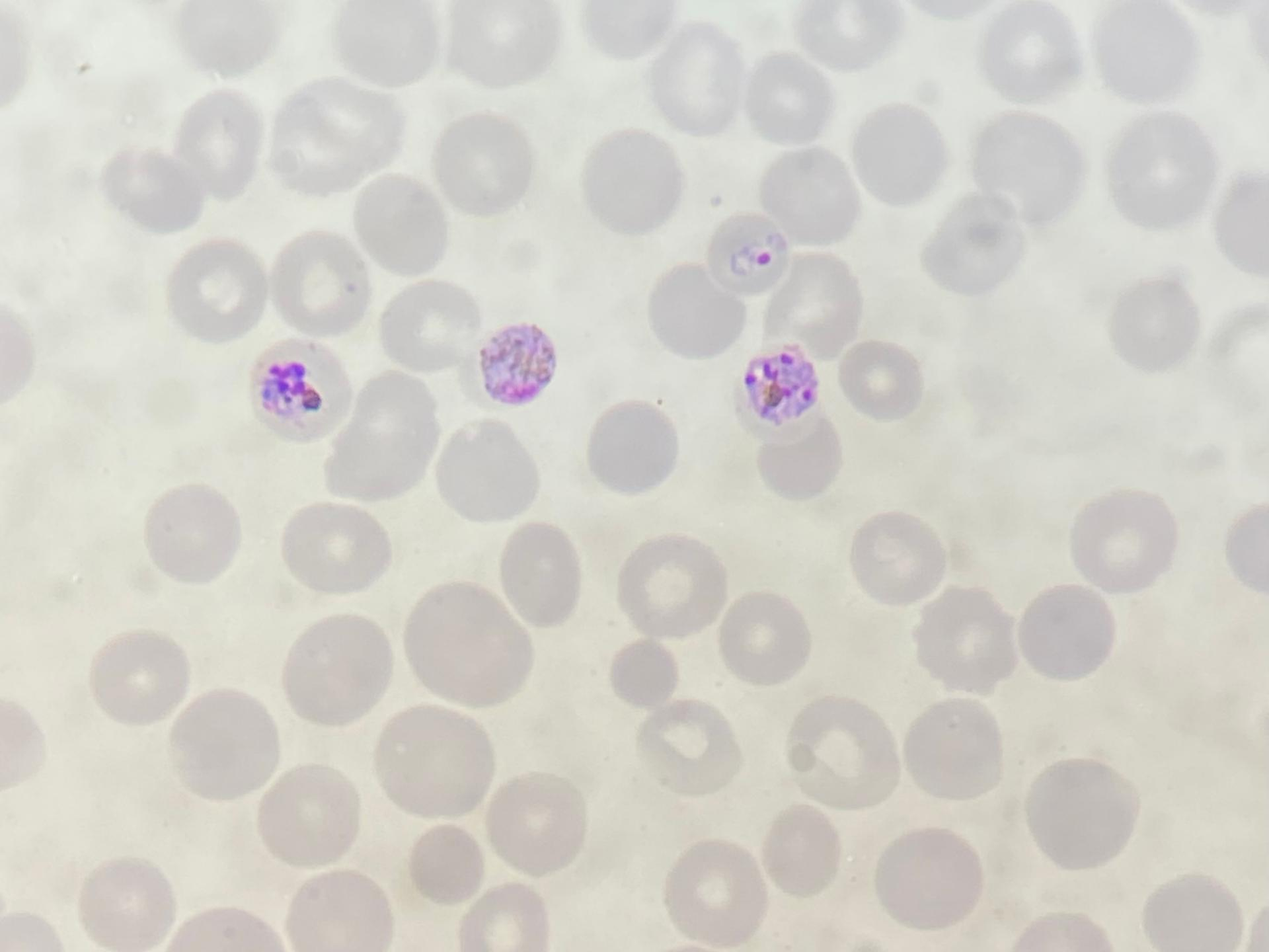Infected: (917, 508, 1020, 612), (442, 506, 538, 609), (478, 655, 562, 736), (712, 545, 792, 626)
Uninfected: (734, 243, 863, 368), (867, 760, 997, 875), (200, 504, 332, 614), (827, 453, 942, 576), (128, 80, 245, 195), (369, 141, 485, 255), (773, 134, 891, 244), (52, 721, 163, 837), (182, 727, 294, 838), (994, 146, 1096, 261), (250, 256, 356, 365), (88, 359, 198, 462), (875, 228, 986, 330), (540, 314, 651, 416), (284, 21, 394, 123), (728, 430, 834, 535), (907, 84, 1013, 188), (69, 846, 176, 949), (241, 654, 346, 758), (895, 615, 1000, 719), (501, 6, 607, 109), (264, 150, 368, 253), (184, 847, 289, 949), (525, 152, 633, 251), (735, 736, 837, 839), (680, 77, 783, 178), (522, 815, 617, 924), (584, 717, 684, 820), (319, 744, 418, 848), (881, 349, 986, 445), (151, 268, 251, 368), (1007, 754, 1100, 859), (707, 864, 819, 951), (818, 674, 914, 775), (408, 706, 507, 803), (1001, 614, 1100, 710), (429, 803, 525, 902), (406, 594, 501, 694), (1031, 367, 1128, 464), (521, 592, 619, 688), (1082, 221, 1176, 320), (67, 578, 161, 677), (321, 346, 419, 440), (792, 578, 892, 670), (1064, 716, 1165, 807), (588, 456, 685, 550), (457, 265, 553, 359), (826, 864, 929, 951), (688, 324, 773, 427), (1093, 1, 1188, 91), (877, 2, 981, 79), (367, 880, 473, 952), (25, 1, 124, 77), (425, 450, 514, 534), (344, 530, 434, 613), (427, 54, 509, 143), (988, 875, 1089, 947), (785, 48, 862, 126), (721, 2, 810, 69), (590, 241, 659, 312)
